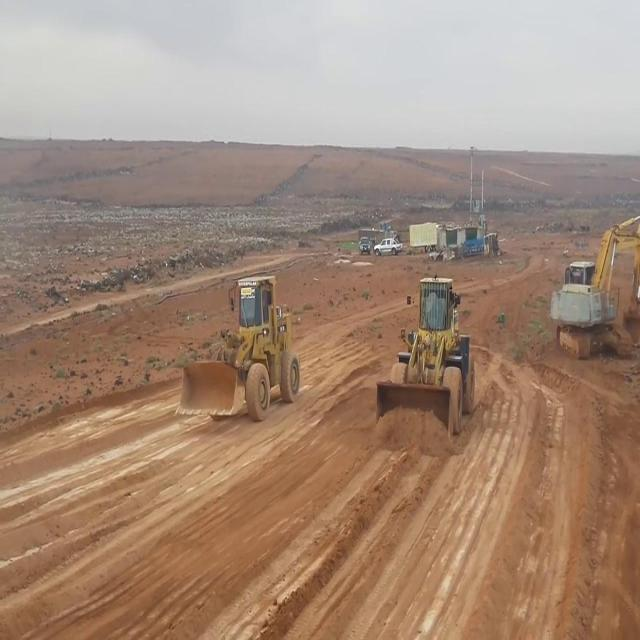buldozerpayloadergrader: (178, 273, 302, 423), (374, 276, 474, 440)
excavator: (550, 211, 640, 360)
